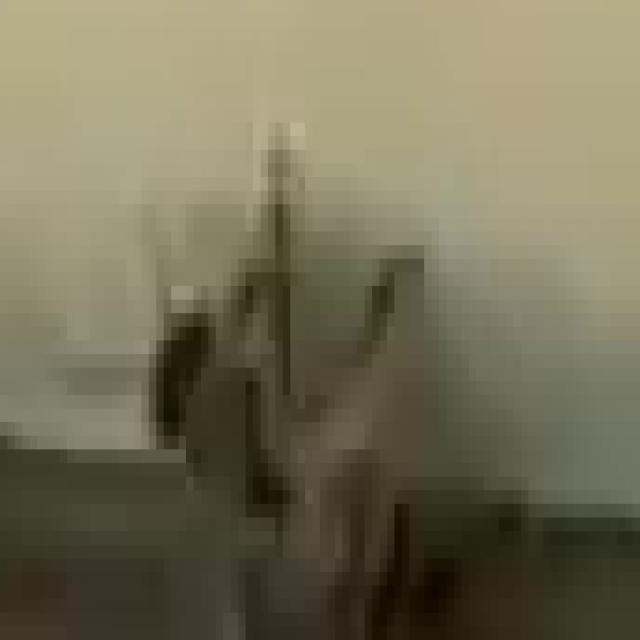honeybee: (147, 172, 465, 640)
